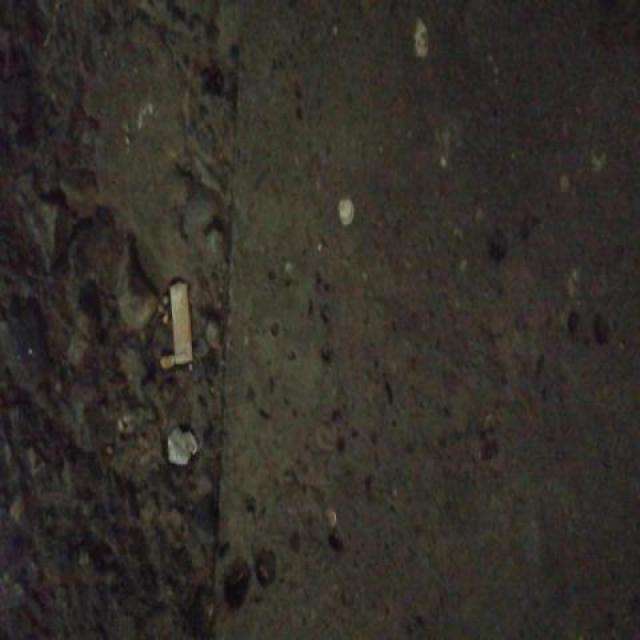non-organic waste: (165, 276, 196, 368)
